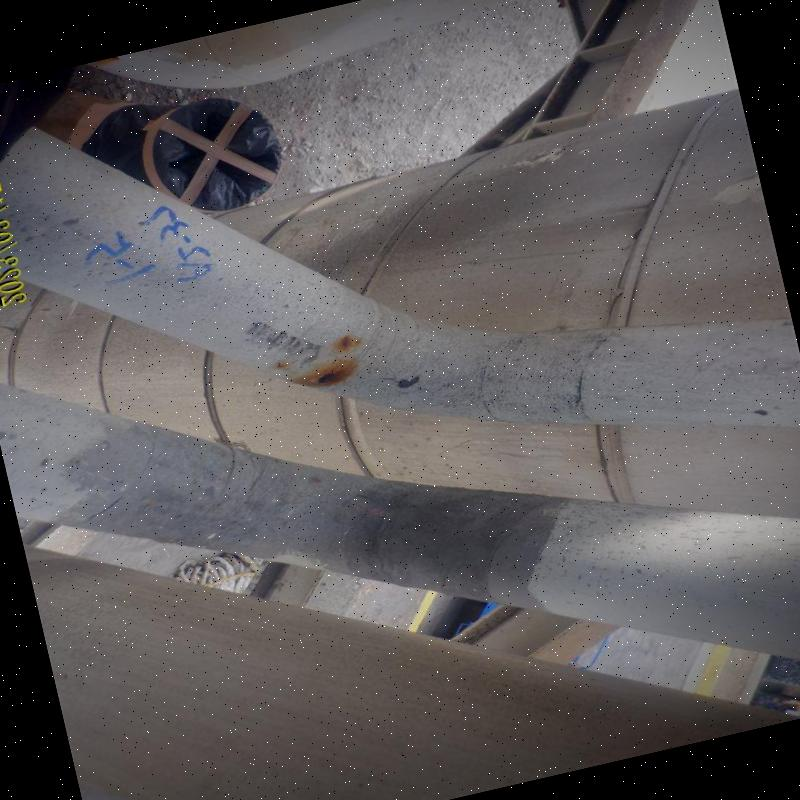corrosion: (306, 359, 352, 391), (331, 333, 356, 354)
